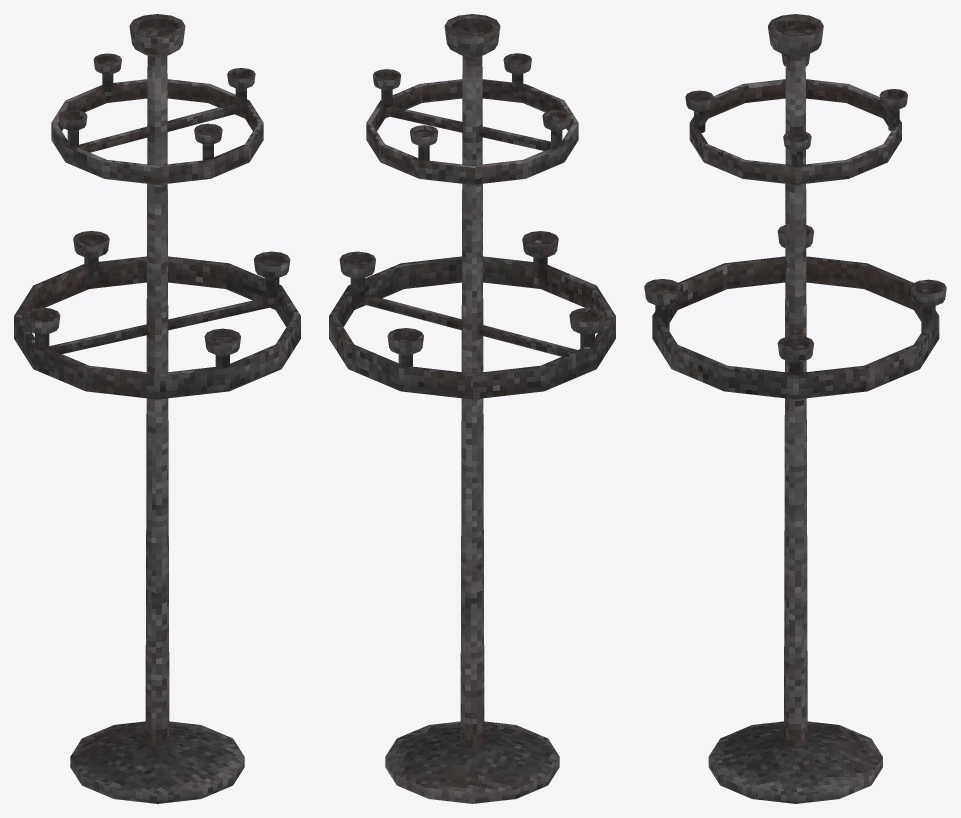
Rendered from Candelabra_4.gltf.
The picture shows the model from 3 angles, left to right: view 1: azimuth 30°, elevation 25°; view 2: azimuth 150°, elevation 25°; view 3: azimuth 270°, elevation 25°; orthographic projection.
Parts seen in each view (by area): view 1: Candelabra_4; view 2: Candelabra_4; view 3: Candelabra_4.
Boxes of the visible parts, bbox=[...] form: Candelabra_4: bbox=[14, 14, 300, 803]; Candelabra_4: bbox=[329, 14, 615, 803]; Candelabra_4: bbox=[644, 14, 946, 803].
Bounding box in the file's own units: 2.51 × 6.79 × 2.51.
1 material, 1 textured.
